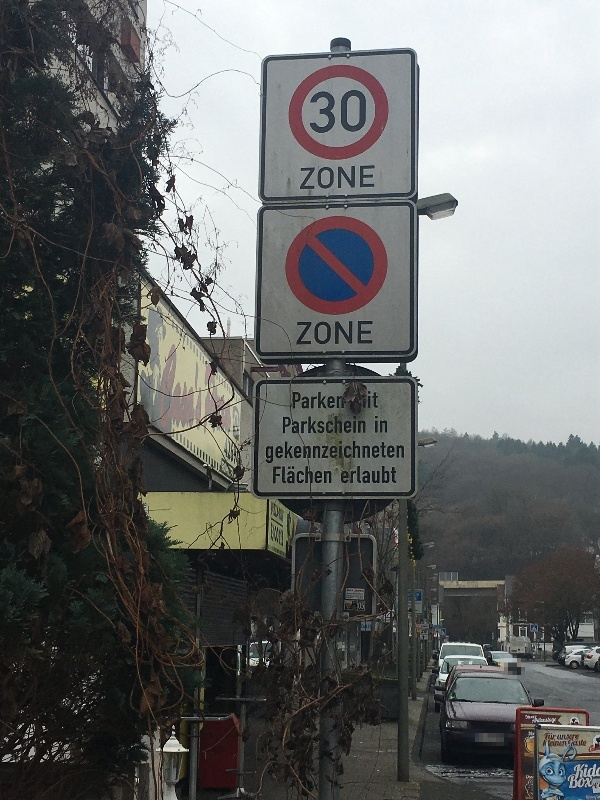text: (177, 341, 192, 435), (193, 341, 208, 435), (209, 341, 224, 435), (165, 341, 176, 435), (225, 341, 234, 435), (321, 90, 336, 134), (337, 90, 352, 134), (353, 90, 366, 134), (226, 436, 240, 468), (311, 90, 320, 134), (305, 165, 320, 190), (321, 165, 336, 190), (337, 165, 352, 190), (353, 165, 368, 190), (577, 764, 592, 789), (273, 441, 288, 464), (289, 441, 304, 464), (305, 441, 320, 464), (321, 441, 336, 464), (337, 441, 352, 464), (353, 441, 368, 464), (369, 441, 384, 464), (385, 441, 400, 464), (305, 322, 320, 344), (321, 322, 336, 344), (337, 322, 352, 344), (353, 322, 368, 344), (273, 521, 284, 547), (305, 392, 320, 409), (321, 392, 336, 409), (353, 466, 368, 483), (369, 466, 384, 483), (289, 417, 304, 434), (305, 417, 320, 434), (321, 417, 336, 434), (337, 417, 352, 434), (273, 501, 284, 524), (225, 460, 237, 481), (289, 467, 304, 483), (305, 467, 320, 483), (274, 467, 288, 483), (353, 417, 366, 434), (545, 733, 560, 747), (561, 733, 576, 747), (385, 466, 397, 483), (293, 392, 304, 409), (321, 467, 332, 483), (569, 764, 576, 789), (593, 764, 600, 789), (342, 466, 352, 483), (369, 391, 378, 409), (577, 733, 588, 747), (369, 165, 375, 190), (376, 416, 384, 433), (529, 715, 544, 724), (298, 322, 304, 344), (337, 392, 344, 409), (267, 441, 272, 464), (545, 715, 557, 724), (353, 590, 364, 599), (363, 391, 368, 409), (369, 322, 373, 344), (283, 417, 288, 434), (301, 165, 304, 190), (401, 441, 404, 464), (359, 602, 368, 609), (348, 590, 352, 599), (385, 416, 387, 433), (361, 625, 368, 629), (525, 715, 528, 724), (271, 521, 272, 547), (223, 460, 224, 481), (529, 775, 534, 779), (369, 625, 372, 629), (526, 775, 528, 779)
